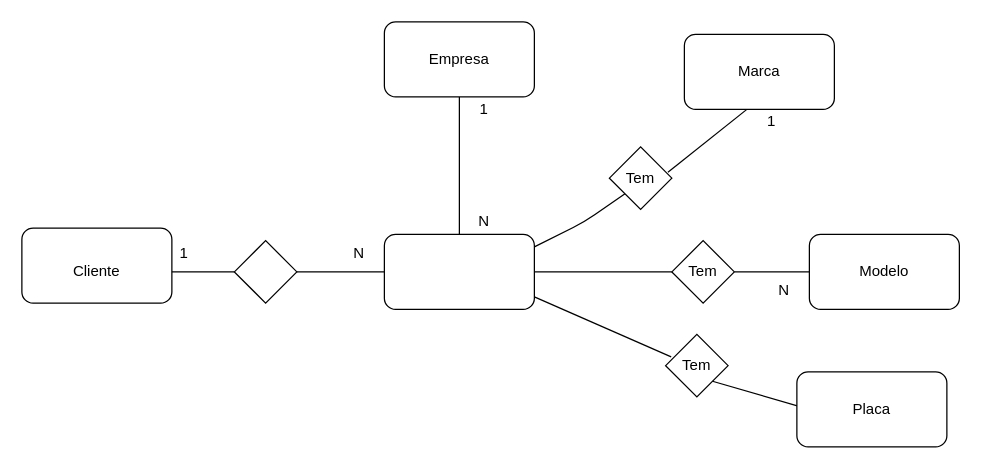
Some shapes in this 981 by 469 pixel diagram are drawn without their labels. The shapes that lost their labels are listed below. From the top down, each one's centre as x and y in pixels, then its label:
At point 265,271: "Aluga".
At point 458,271: "Veículo".
